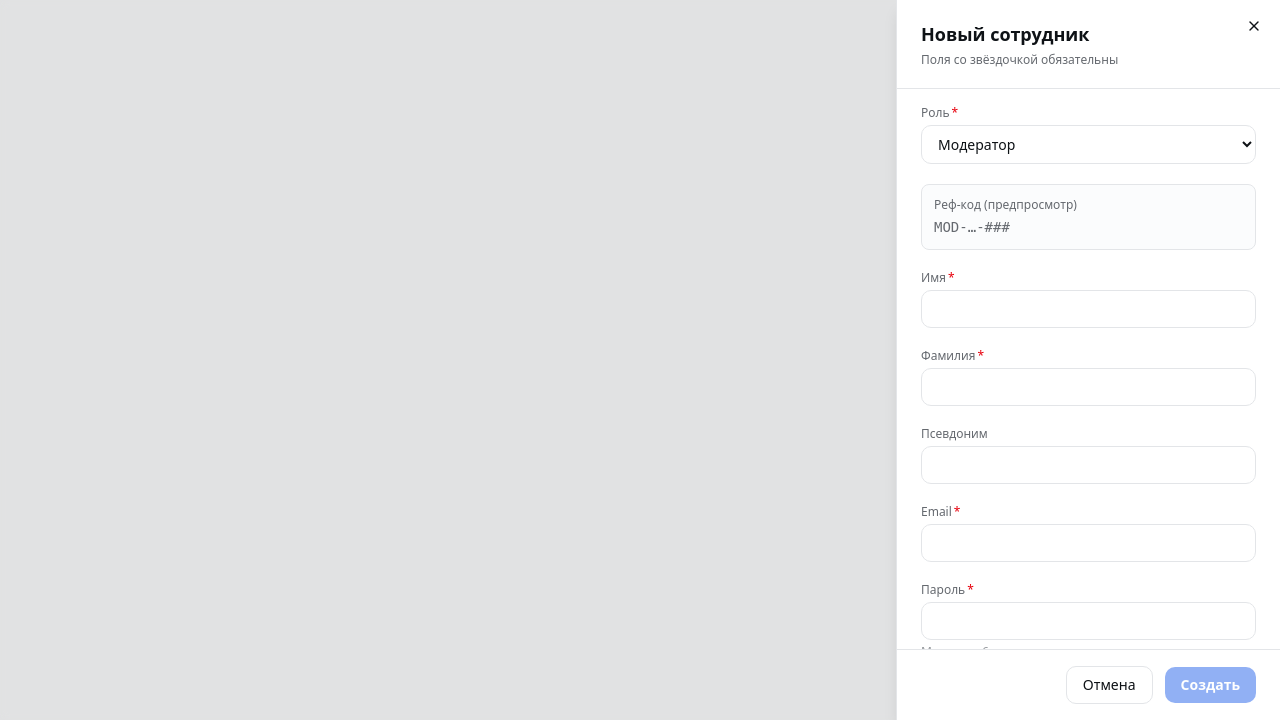
Scenario: <CreateStaffSlideOut> › shows error alert on RPC failure
Step 1. Type "Иван" into the field labelled "Имя*" → (1088, 309), box top-left (921, 290), bottom-right (1256, 328)
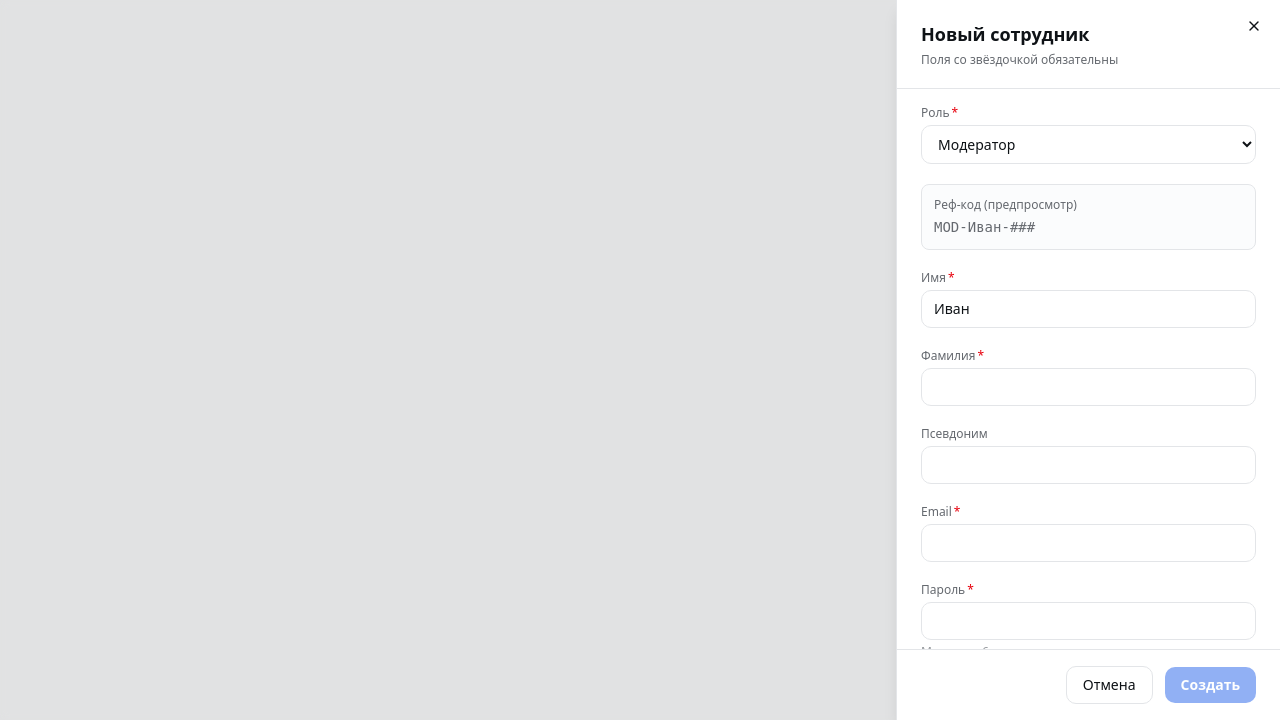
Step 2. Type "Петров" into the field labelled "Фамилия*" → (1088, 387), box top-left (921, 368), bottom-right (1256, 406)
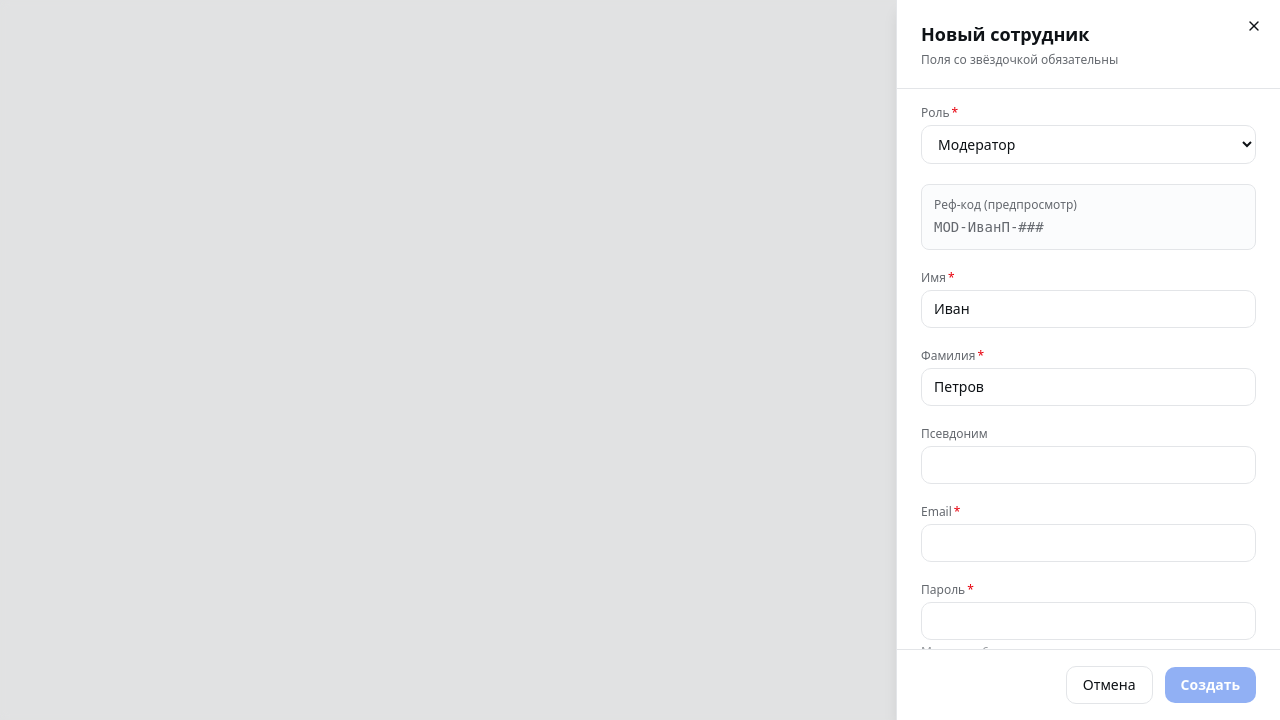
Step 3. Type "i@example.com" into the field labelled "Email*" → (1088, 543), box top-left (921, 524), bottom-right (1256, 562)
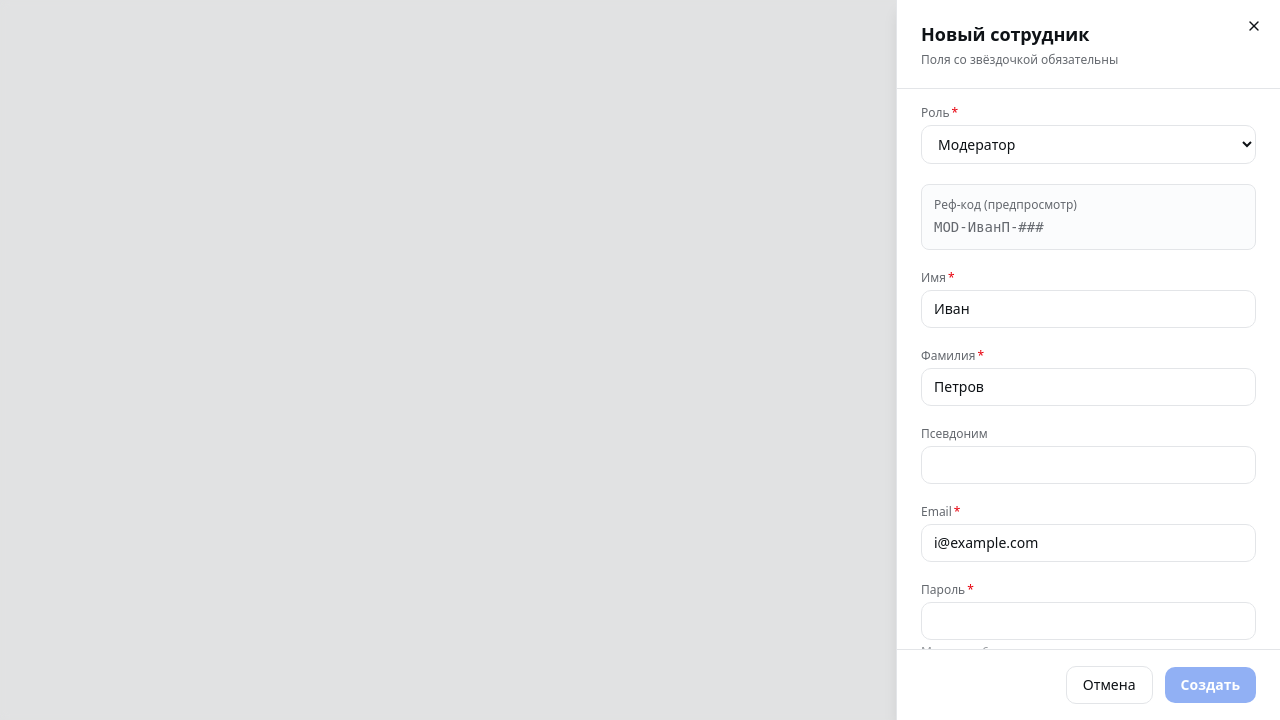
Step 4. Type "secret123" into the password field labelled "Пароль* Минимум 6 символов" → (1088, 621), box top-left (921, 602), bottom-right (1256, 640)
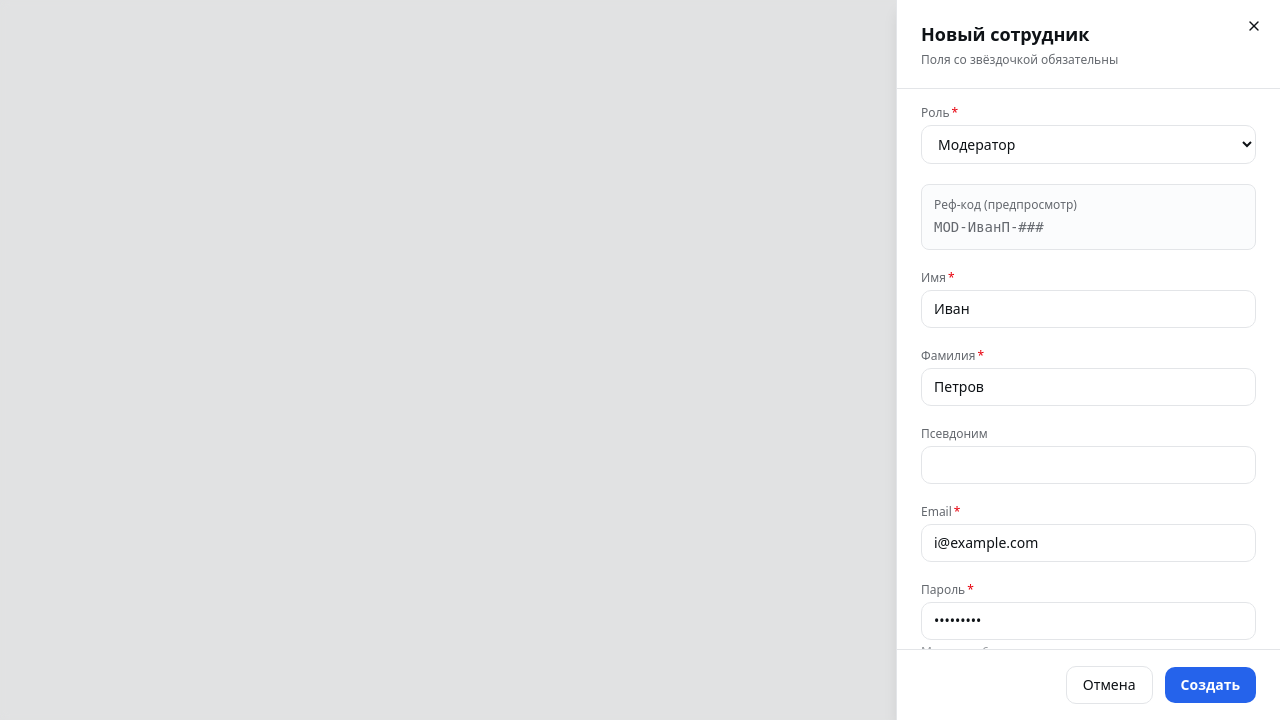
Step 5. Click the button "Создать" → (1210, 685), box top-left (1164, 667), bottom-right (1256, 703)
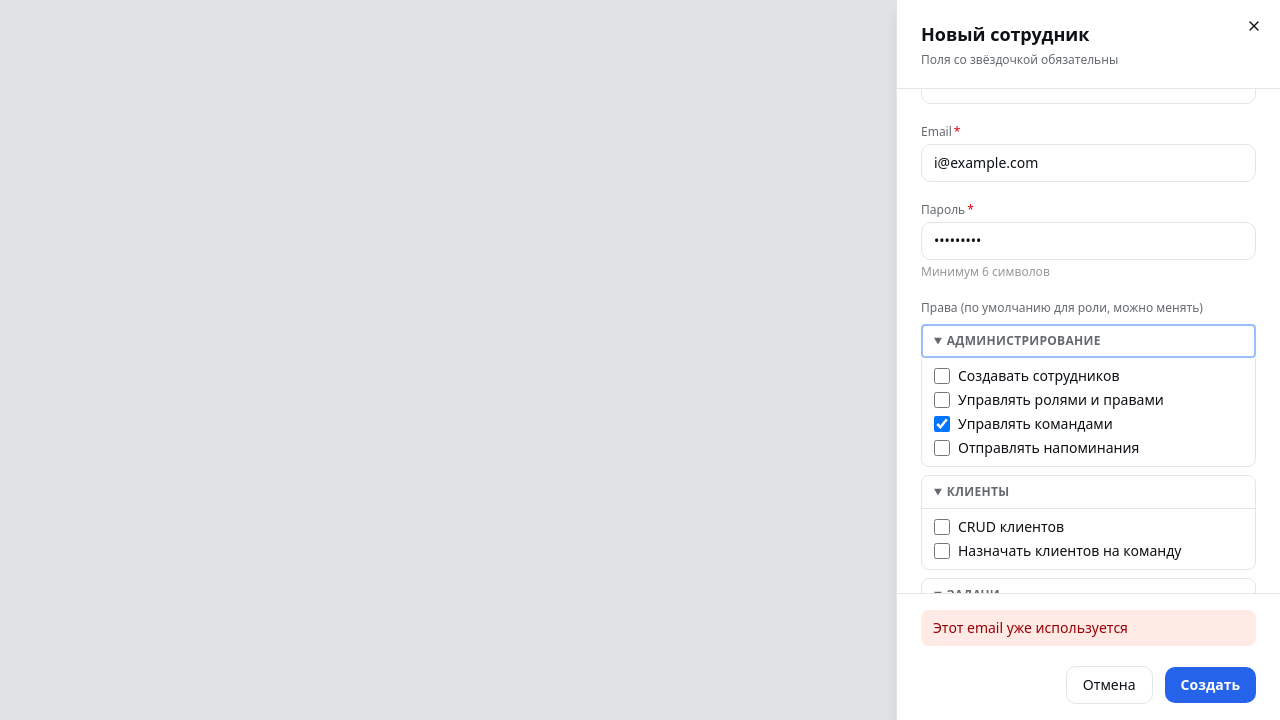
Expected: the text "Этот email уже используется" is shown, top-left (921, 610), bottom-right (1256, 646)
